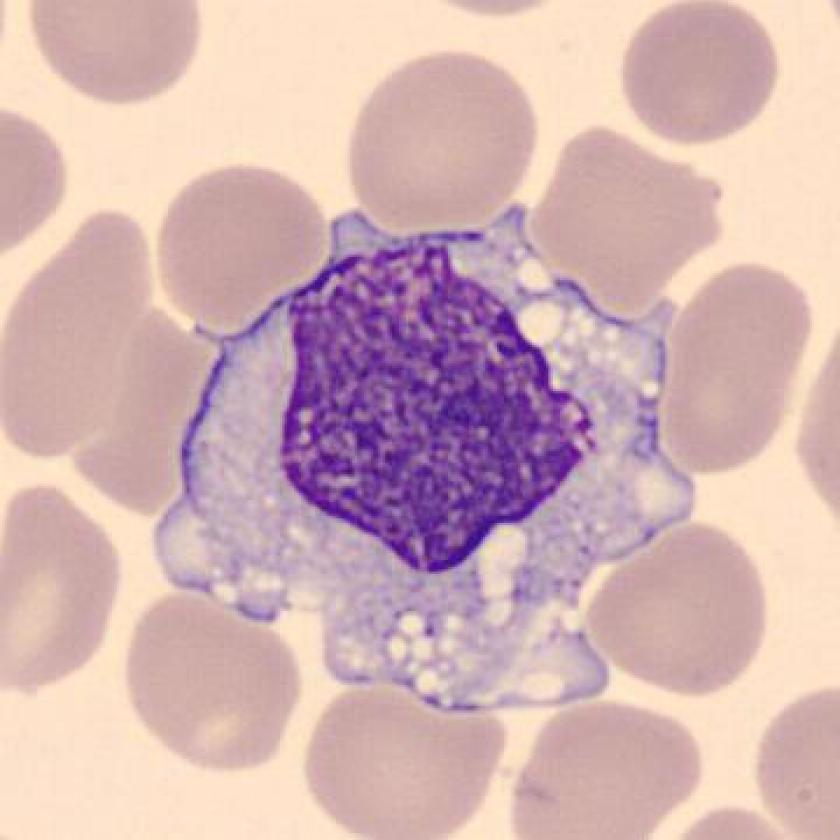monocyte: (132, 193, 715, 723)
